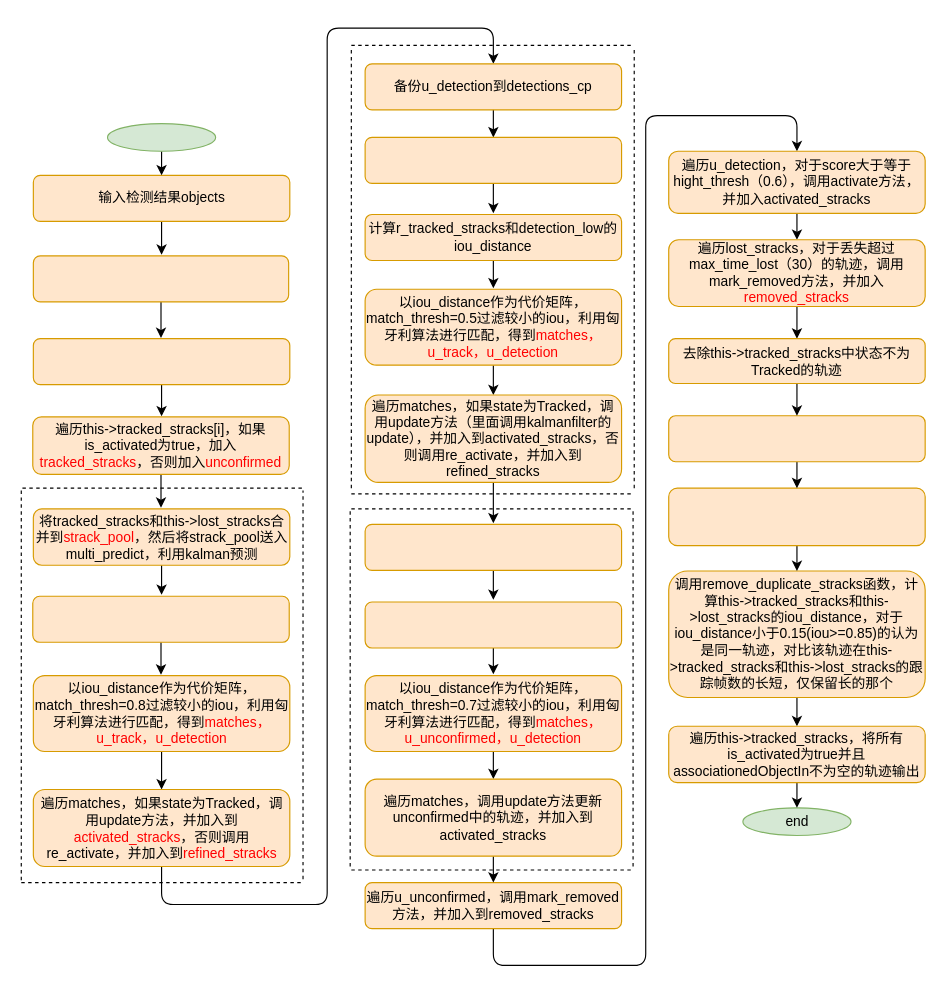
This 945x995 diagram has some shape labels left out. The centre of each missing label's shape, as x and y in pixels:
"start" goes at point (161, 136).
"将activated_stracks，refind_stracks合并到this->tracked_stracks" goes at point (796, 438).
"将objects转换为x1，y1，x2，y2，score格式，构建strack" goes at point (160, 278).
"根据score和track_thresh(0.5)，将strack分为 detections (>=)和 detection_low" goes at point (161, 361).
"计算strack_pool和detections的iou_distance" goes at point (160, 618).
"计算unconfirmed和detctions_cp的iou_distance" goes at point (493, 624).
"遍历this->lost_stracks，去除this->tracked_stracks和this->removed_stracks中存在的轨迹" goes at point (796, 516).
"遍历u_track，将state不是Lost的轨迹，调用mark_lost方法，并加入lost_stracks" goes at point (493, 546).
"遍历u_track，将里面state为Tracked的轨迹放入 r_tracked_stracks" goes at point (493, 159).
